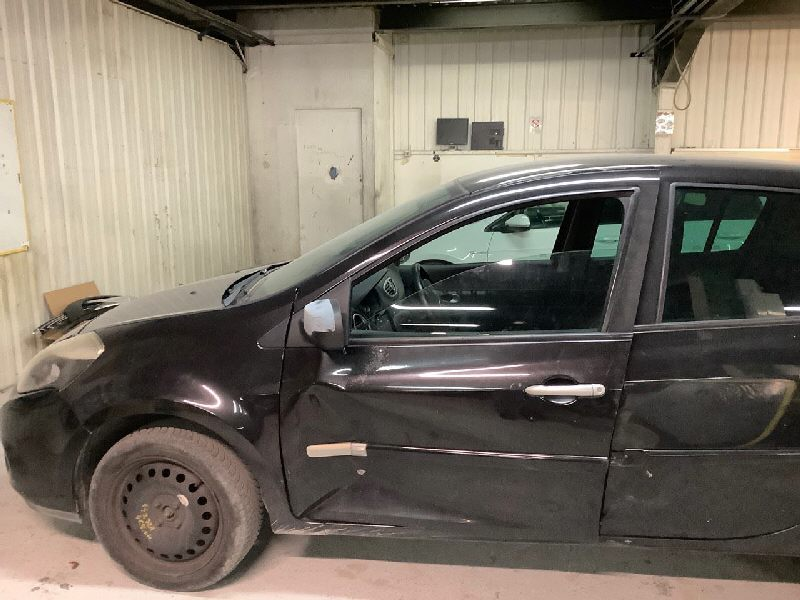front door: (258, 150, 684, 566)
